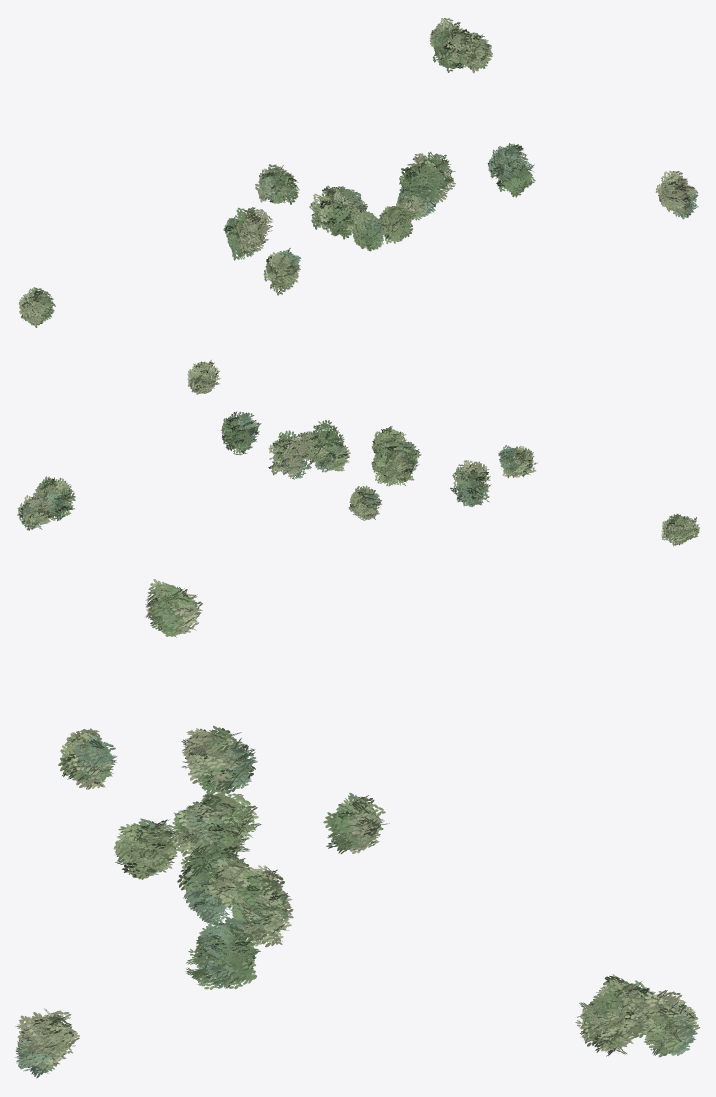
Rendered from campus-tree--2_-3-middle.glb.
The picture shows the model from 3 angles, top to bottom: view 1: azimuth 30°, elevation 25°; view 2: azimuth 150°, elevation 25°; view 3: azimuth 270°, elevation 25°; orthographic projection. The views are drawn at different scales.
Parts seen in each view (by area): view 1: Campus leaf canopy; view 2: Campus leaf canopy; view 3: Campus leaf canopy.
Part boxes in pixels (box(x1,y1,x2,y2)): Campus leaf canopy: box(19, 18, 698, 327); Campus leaf canopy: box(17, 360, 699, 546); Campus leaf canopy: box(15, 579, 700, 1078).
Size of the model in its own units: 82.32 by 7.77 by 52.24.
1 material, 1 textured.
